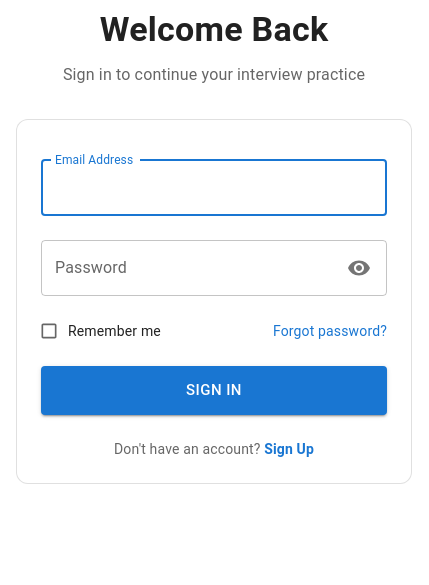
Test: Login Component › Error Handling › shows "Invalid email or password" for 401 error
In the field labelled "Email Address": [214, 188] box x1=41 y1=160 x2=387 y2=216, type "john@example.com"
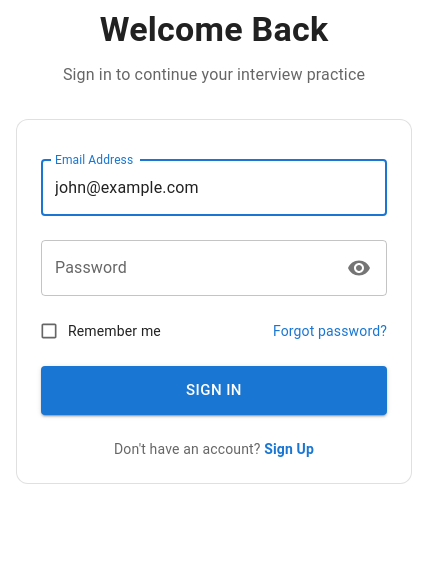
In the password field labelled "Password": [188, 268] box x1=41 y1=240 x2=334 y2=296, type "WrongPassword"
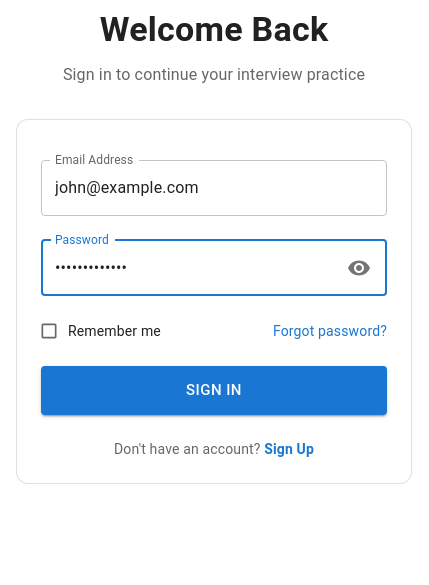
Click the button "Sign In": [214, 390] box x1=41 y1=366 x2=387 y2=414
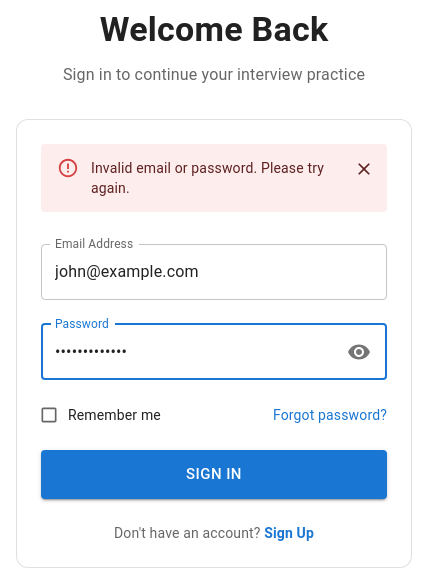
Expected: the text "Invalid email or password. Please try again." is shown, x1=91 y1=150 x2=333 y2=206
